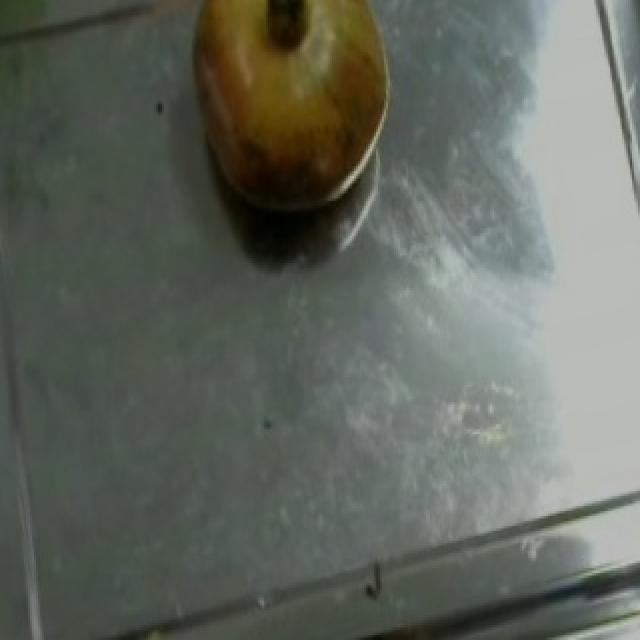fruit: (160, 0, 416, 238)
